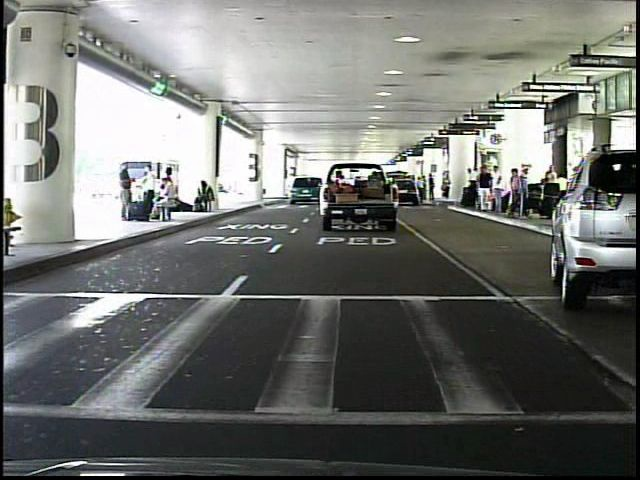person: (117, 159, 140, 226), (475, 165, 495, 218), (490, 164, 505, 216), (439, 170, 454, 205), (427, 171, 437, 202)
